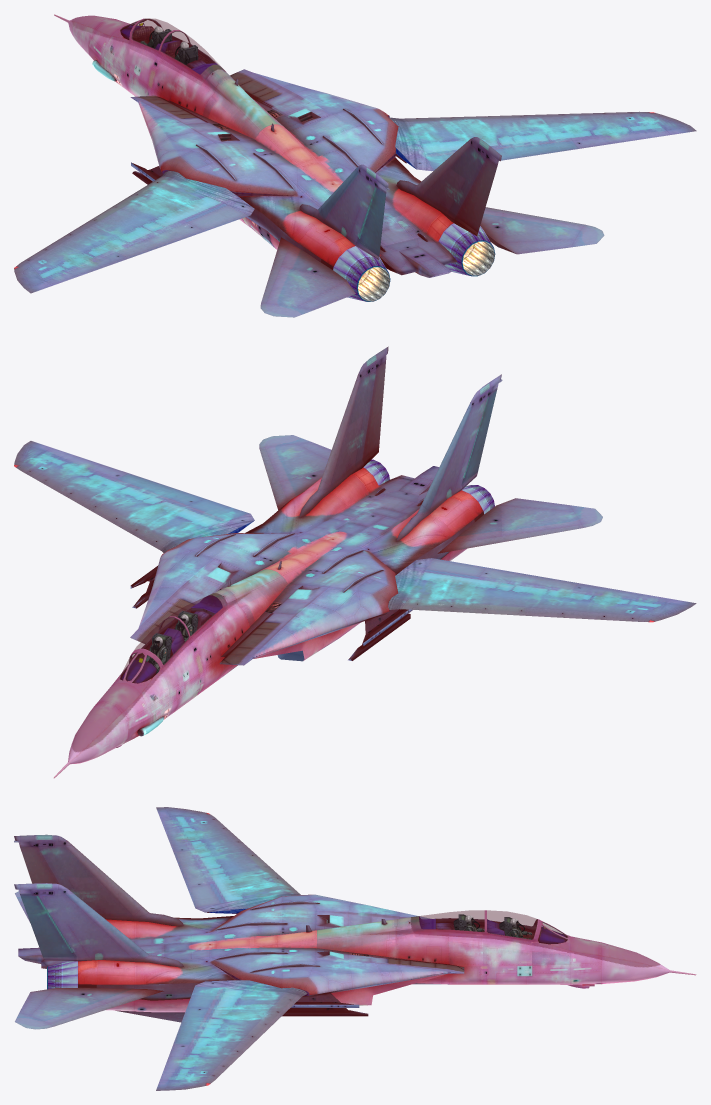
The picture shows the model from 3 angles, top to bottom: view 1: azimuth 30°, elevation 25°; view 2: azimuth 150°, elevation 25°; view 3: azimuth 270°, elevation 25°; orthographic projection. The views are drawn at different scales.
Parts seen in each view (by area): view 1: F-14A_LOD0, F-14A_WingL01, F-14A_WingR01, F-14A_ElevatorL01, F-14A_ElevatorR01, F-14A_Glass_Canopy01, F-14A_EngineL01, F-14A_EngineR01, F-14A_Canopy01, F-14A_RudderR01, F-14A_FlapL01, F-14A_RudderL01 (+7 smaller); view 2: F-14A_LOD0, F-14A_WingL01, F-14A_WingR01, F-14A_ElevatorL01, F-14A_ElevatorR01, F-14A_Glass_Canopy01, F-14A_Canopy01, F-14A_VoletL02, F-14A_RudderR01, F-14A_FlapL01, F-14A_FlapR01, F-14A_VoletR02 (+7 smaller); view 3: F-14A_LOD0, F-14A_WingR01, F-14A_WingL01, F-14A_ElevatorR01, F-14A_Glass_Canopy01, F-14A_Canopy01, F-14A_RudderR01, F-14A_FlapL02, F-14A_FlapR01, F-14A_FlapL01, F-14A_RudderL01, F-14A_FlapR02 (+6 smaller).
Boxes of the visible parts, x1,y1,x2,y2 form: F-14A_LOD0: [54, 14, 501, 277]; F-14A_WingL01: [14, 171, 238, 293]; F-14A_WingR01: [389, 112, 696, 157]; F-14A_ElevatorL01: [260, 237, 355, 317]; F-14A_ElevatorR01: [480, 207, 604, 254]; F-14A_Glass_Canopy01: [120, 19, 219, 73]; F-14A_EngineL01: [333, 246, 390, 301]; F-14A_EngineR01: [438, 223, 495, 276]; F-14A_Canopy01: [128, 18, 224, 85]; F-14A_RudderR01: [456, 158, 497, 232]; F-14A_FlapL01: [113, 220, 204, 258]; F-14A_RudderL01: [357, 185, 386, 256]; F-14A_LOD0: [54, 346, 502, 778]; F-14A_WingL01: [388, 568, 696, 622]; F-14A_WingR01: [14, 441, 238, 552]; F-14A_ElevatorL01: [437, 498, 602, 553]; F-14A_ElevatorR01: [259, 435, 331, 510]; F-14A_Glass_Canopy01: [120, 595, 222, 683]; F-14A_Canopy01: [131, 593, 228, 673]; F-14A_VoletL02: [402, 598, 525, 615]; F-14A_RudderR01: [362, 361, 385, 459]; F-14A_FlapL01: [478, 567, 578, 591]; F-14A_FlapR01: [113, 473, 204, 506]; F-14A_VoletR02: [88, 503, 169, 549]; F-14A_LOD0: [14, 834, 696, 1022]; F-14A_WingR01: [156, 980, 307, 1090]; F-14A_WingL01: [156, 807, 300, 913]; F-14A_ElevatorR01: [15, 988, 163, 1029]; F-14A_Glass_Canopy01: [419, 910, 567, 943]; F-14A_Canopy01: [411, 910, 539, 947]; F-14A_RudderR01: [20, 894, 76, 957]; F-14A_FlapL02: [187, 883, 237, 913]; F-14A_FlapR01: [173, 1007, 212, 1045]; F-14A_FlapL01: [173, 850, 213, 887]; F-14A_RudderL01: [20, 846, 58, 883]; F-14A_FlapR02: [187, 980, 229, 1008].
Size of the model in its own units: 1850 by 439 by 1883.
